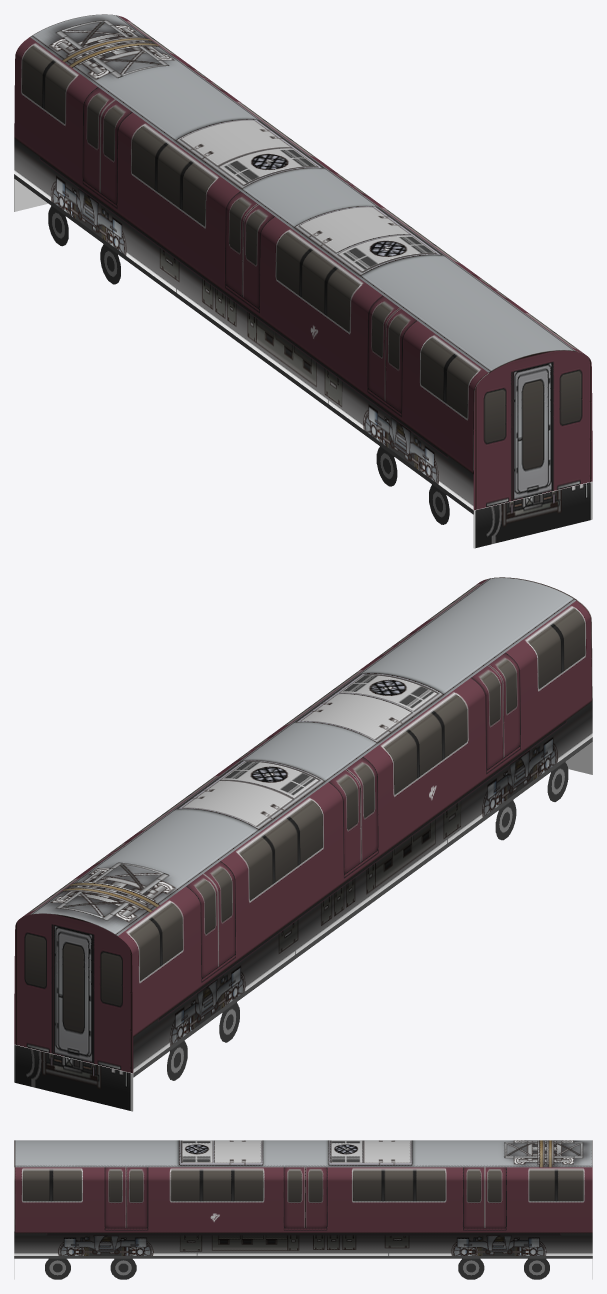
Rendered from car3.glb.
3 renders of one model, top to bottom at view 1: azimuth 30°, elevation 25°; view 2: azimuth 150°, elevation 25°; view 3: azimuth 270°, elevation 25°, orthographic. The views are drawn at different scales.
Visible parts, largest first — view 1: hankyu-1300-car3; view 2: hankyu-1300-car3; view 3: hankyu-1300-car3.
Part boxes in pixels (x1=…): hankyu-1300-car3: x1=14, y1=14, x2=592, y2=548; hankyu-1300-car3: x1=14, y1=577, x2=592, y2=1111; hankyu-1300-car3: x1=14, y1=1140, x2=592, y2=1279.
Bounding box in the file's own units: 2.83 × 4.07 × 18.93.
Materials: 9 (8 with a texture image).
